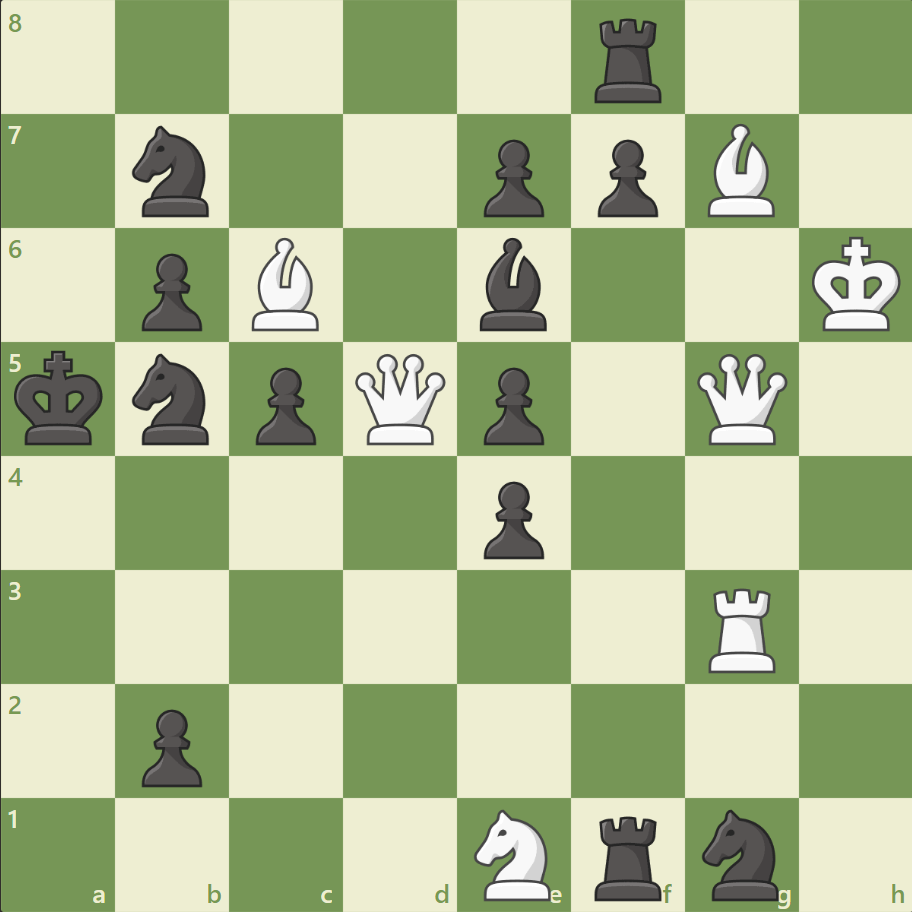B: (244, 233, 328, 336), (698, 120, 782, 222)
K: (806, 231, 906, 339)
N: (465, 802, 562, 904)
Q: (351, 349, 450, 449), (691, 349, 790, 449)
R: (700, 579, 783, 676)
b: (471, 233, 555, 336)
k: (11, 344, 111, 452)
n: (124, 121, 222, 223), (124, 348, 222, 450), (692, 802, 789, 904)
p: (474, 132, 549, 223), (133, 246, 208, 337), (247, 359, 322, 450), (474, 359, 549, 450), (474, 473, 549, 564), (133, 700, 208, 791), (588, 132, 662, 223)
r: (587, 806, 670, 904), (587, 12, 670, 109)
